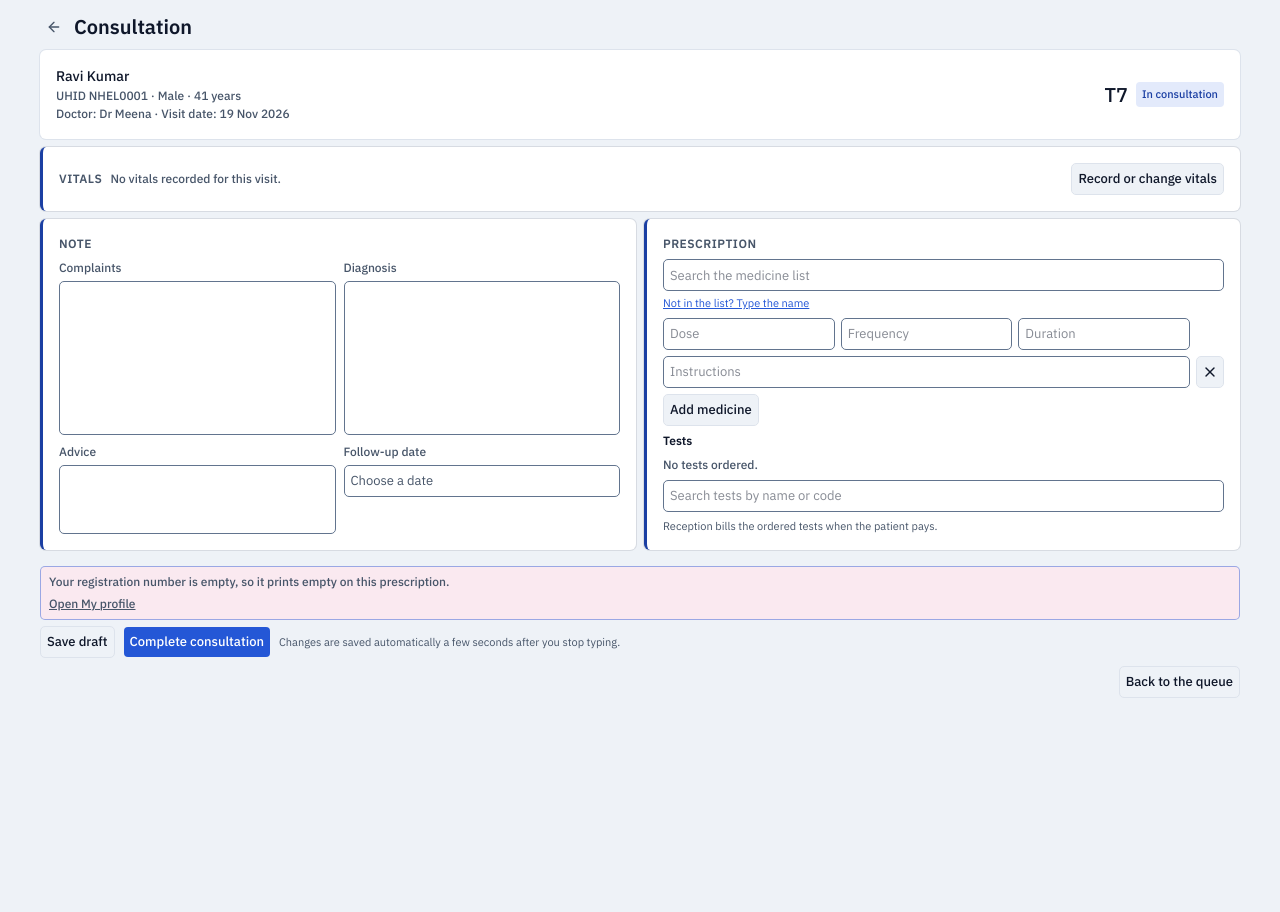
Scenario: doctor Tests box on the consultation screen › a failed search says so and offers nothing
Step 1. Type "mock" into the field named "Order a test" → (944, 496), box [663,480,1224,512]
Wait 400 ms
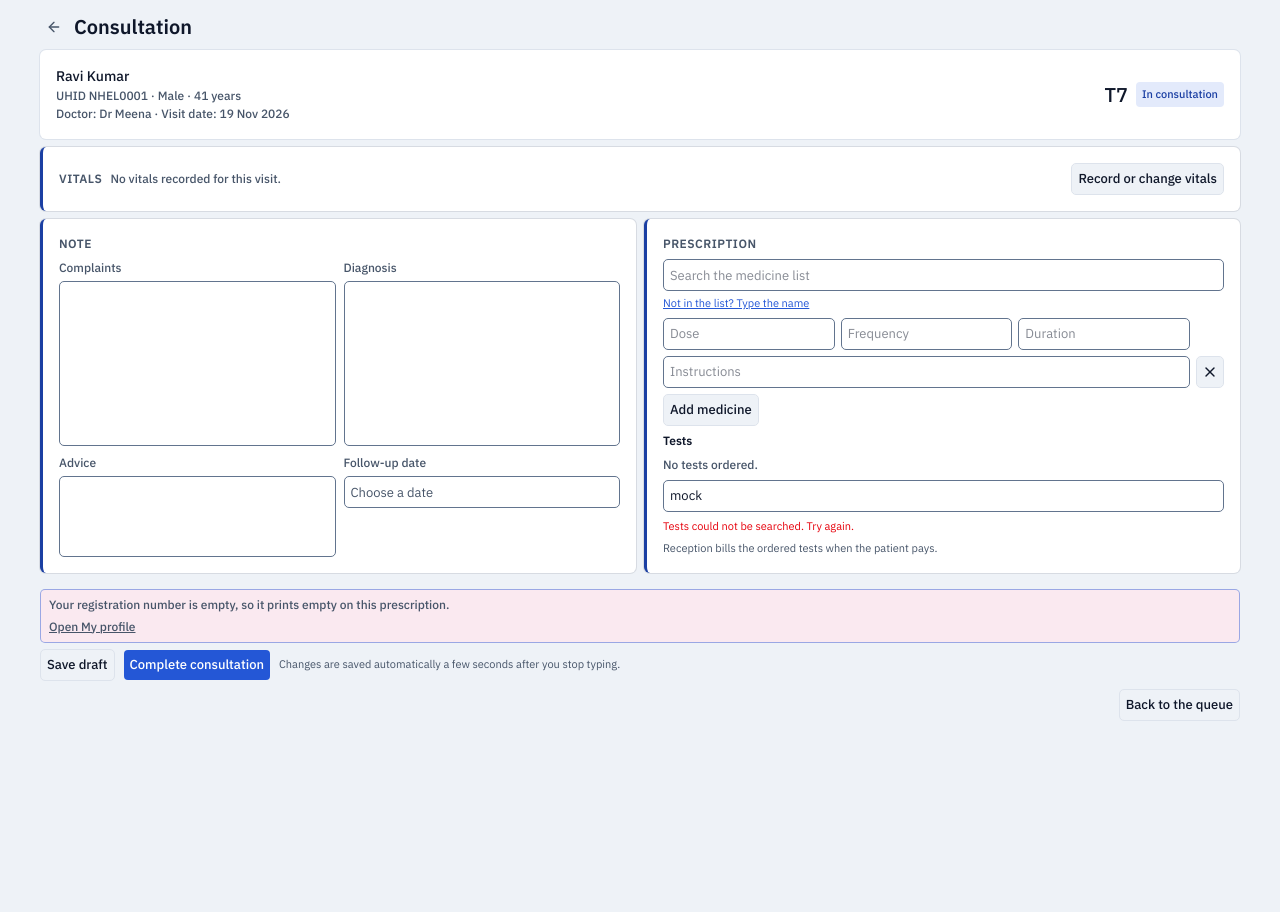
Expected: the message "Tests could not be searched. Try again." is shown, [663,518,854,532]
